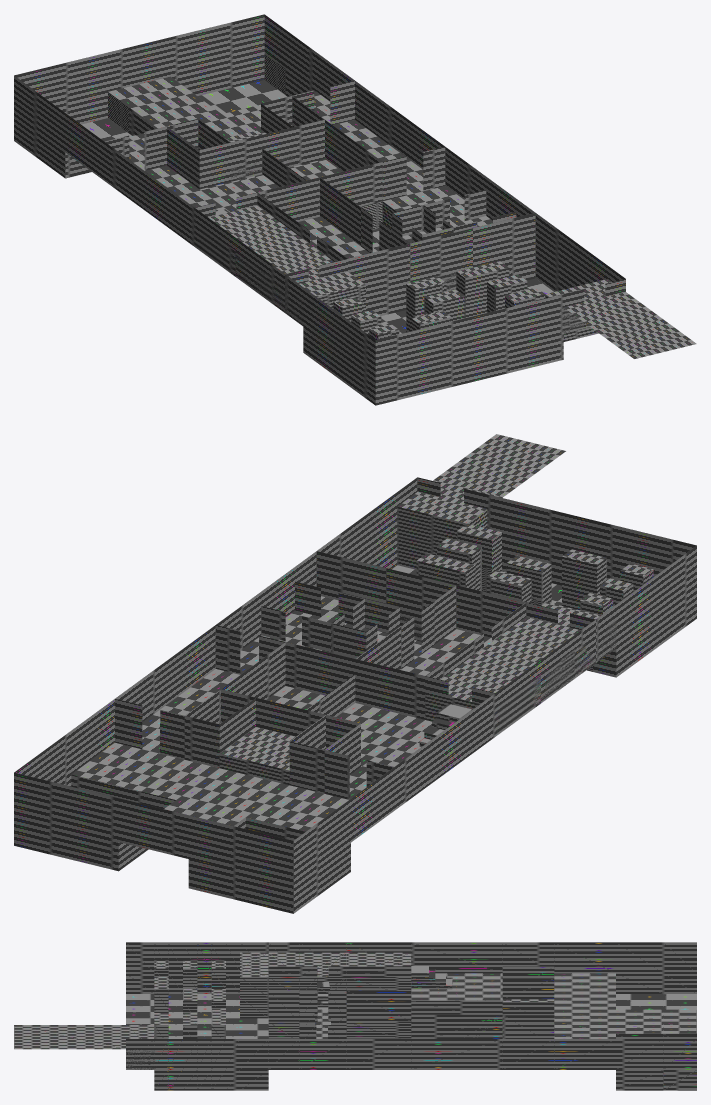
The model's file is world4.glb.
The picture shows the model from 3 angles, top to bottom: view 1: azimuth 30°, elevation 25°; view 2: azimuth 150°, elevation 25°; view 3: azimuth 270°, elevation 25°; orthographic projection. The views are drawn at different scales.
Visible parts, largest first — view 1: Walls, secondFloor, thirdFloor, Floor; view 2: Walls, secondFloor, thirdFloor; view 3: Walls, secondFloor, thirdFloor, Floor.
Boxes of the visible parts, left/top/right/bottom form: Walls: left=14, top=14, right=625, bottom=405; secondFloor: left=108, top=76, right=598, bottom=341; thirdFloor: left=208, top=129, right=696, bottom=358; Floor: left=81, top=54, right=553, bottom=334; Walls: left=14, top=477, right=696, bottom=913; secondFloor: left=71, top=506, right=653, bottom=831; thirdFloor: left=220, top=434, right=652, bottom=770; Walls: left=126, top=942, right=696, bottom=1090; secondFloor: left=126, top=966, right=696, bottom=1069; thirdFloor: left=14, top=952, right=554, bottom=1049; Floor: left=126, top=982, right=696, bottom=1090.
Bounding box in the file's own units: 40 × 10 × 120.
Materials: 1 (1 with a texture image).
